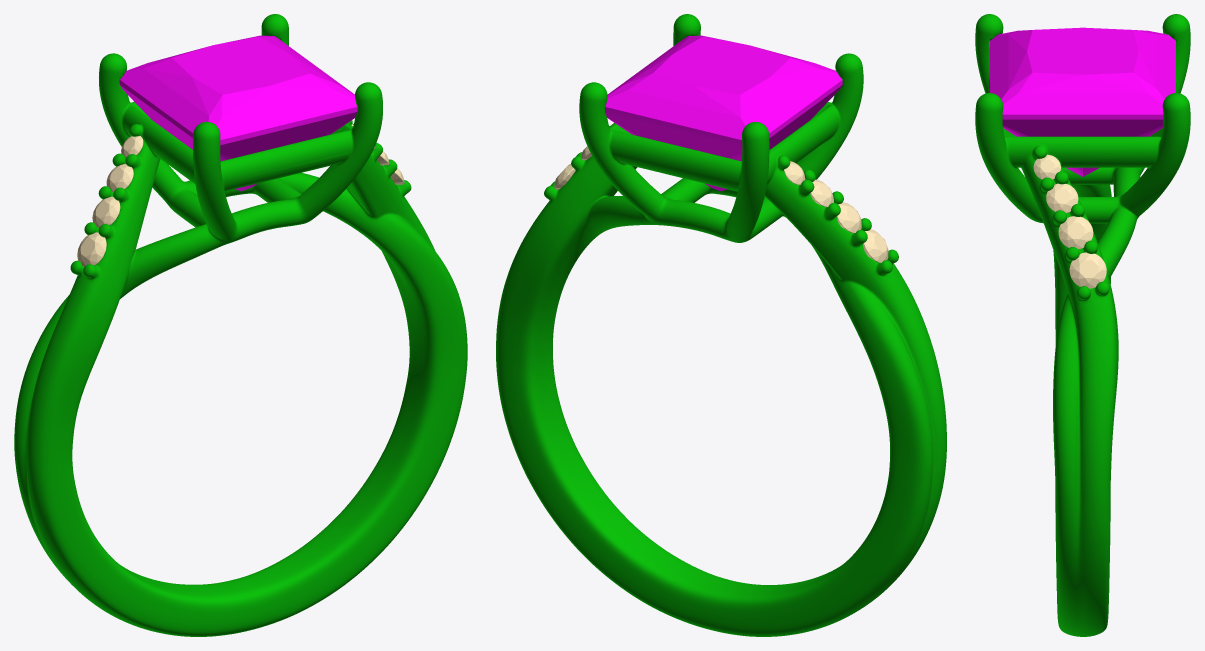
The model's file is BE1AS8PD08_PR_200ct_RENDER.glb.
3 views of the same model, side by side, from view 1: azimuth 30°, elevation 25°; view 2: azimuth 150°, elevation 25°; view 3: azimuth 270°, elevation 25° (orthographic).
Visible parts, largest first — view 1: Metal 01, CS_Diamond_Princess, Diamond_Round_Gem_SH.003, Diamond_Round_Gem_SH.002; view 2: Metal 01, CS_Diamond_Princess; view 3: Metal 01, CS_Diamond_Princess, Diamond_Round_Gem_SH.004, Diamond_Round_Gem_SH.005, Diamond_Round_Gem_SH.006, Diamond_Round_Gem_SH.007.
Part boxes in pixels (box(x1,y1,x2,y2)): Metal 01: box(14, 14, 467, 636); CS_Diamond_Princess: box(119, 35, 357, 191); Diamond_Round_Gem_SH.003: box(77, 232, 106, 266); Diamond_Round_Gem_SH.002: box(92, 196, 120, 227); Metal 01: box(496, 14, 946, 636); CS_Diamond_Princess: box(605, 35, 842, 191); Metal 01: box(975, 14, 1190, 636); CS_Diamond_Princess: box(990, 27, 1175, 176); Diamond_Round_Gem_SH.004: box(1069, 252, 1106, 288); Diamond_Round_Gem_SH.005: box(1058, 216, 1093, 249); Diamond_Round_Gem_SH.006: box(1046, 183, 1078, 213); Diamond_Round_Gem_SH.007: box(1033, 154, 1060, 179).
Size of the model in its own units: 20.27 by 25 by 8.68.
